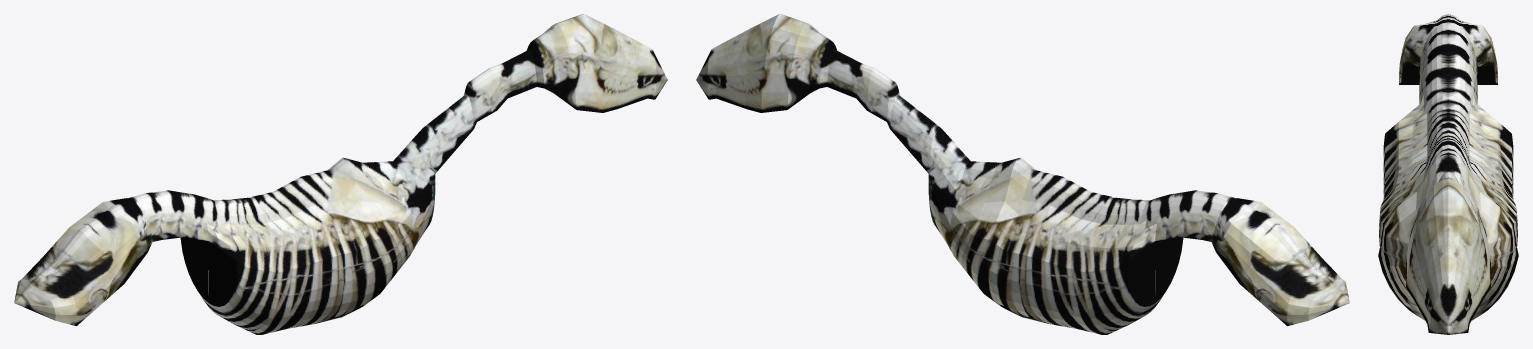
3 views of the same model, side by side, from view 1: azimuth 30°, elevation 25°; view 2: azimuth 150°, elevation 25°; view 3: azimuth 270°, elevation 25° (orthographic). The views are drawn at different scales.
Parts seen in each view (by area): view 1: test1_Cylinder.002; view 2: test1_Cylinder.002; view 3: test1_Cylinder.002.
Part boxes in pixels (x1,y1,x2,y2): test1_Cylinder.002: (14,14,667,334); test1_Cylinder.002: (696,14,1349,334); test1_Cylinder.002: (1378,14,1518,334).
Size of the model in its own units: 4.61 by 1.61 by 0.7489.
Materials: 1 (1 with a texture image).
